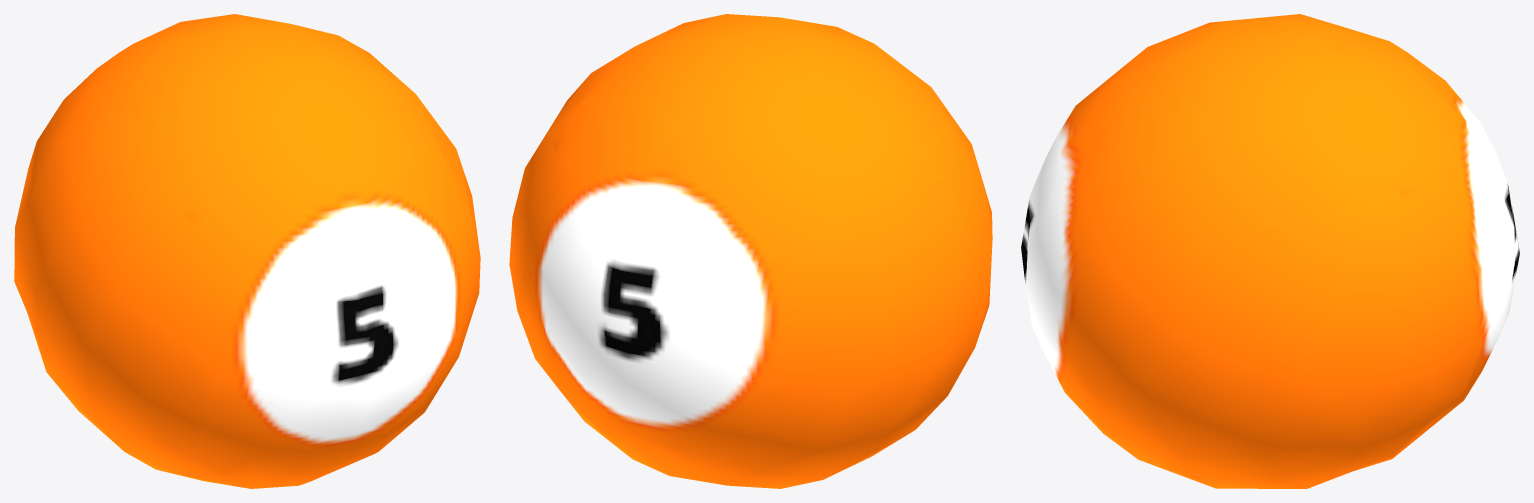
The model's file is orange_5ball.glb.
The picture shows the model from 3 angles, left to right: view 1: azimuth 30°, elevation 25°; view 2: azimuth 150°, elevation 25°; view 3: azimuth 270°, elevation 25°; orthographic projection. The views are drawn at different scales.
Parts seen in each view (by area): view 1: Orange_5Ball; view 2: Orange_5Ball; view 3: Orange_5Ball.
Part boxes in pixels (x1,y1,x2,y2): Orange_5Ball: (14, 14, 480, 488); Orange_5Ball: (509, 14, 992, 488); Orange_5Ball: (1021, 14, 1519, 488).
Bounding box in the file's own units: 0.4257 × 0.4296 × 0.4474.
Materials: 1 (1 with a texture image).
